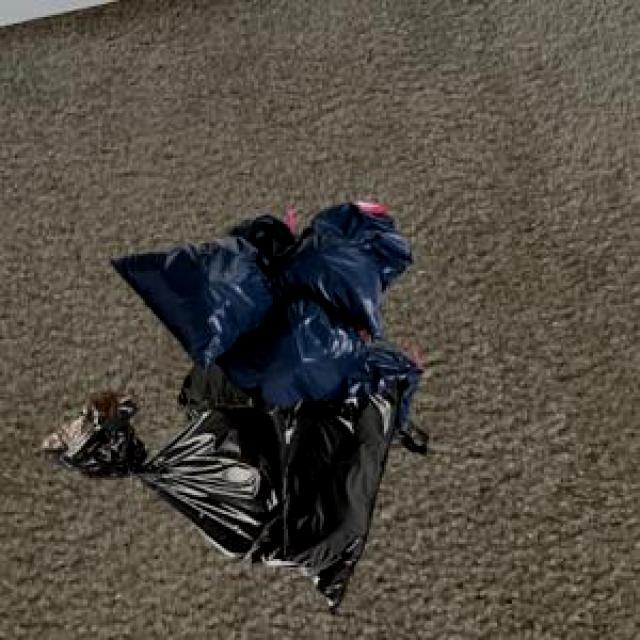Trashbag: (161, 399, 393, 622), (129, 239, 252, 353), (293, 205, 412, 302), (240, 306, 350, 408)
